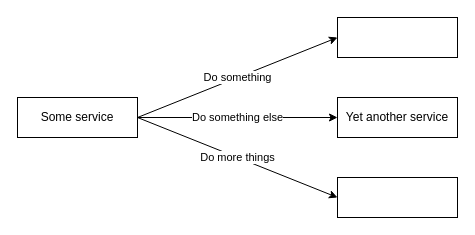
The diagram is 475 pixels wide and 235 high, and some of its shapes have lost their labels. The centre of each missing label's shape, as x and y in pixels:
Another service: the point at 397,37
Some other service: the point at 397,197
